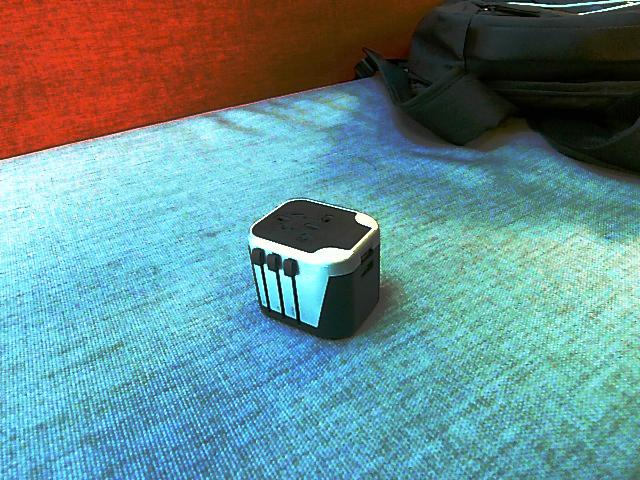adapter: (247, 197, 381, 340)
